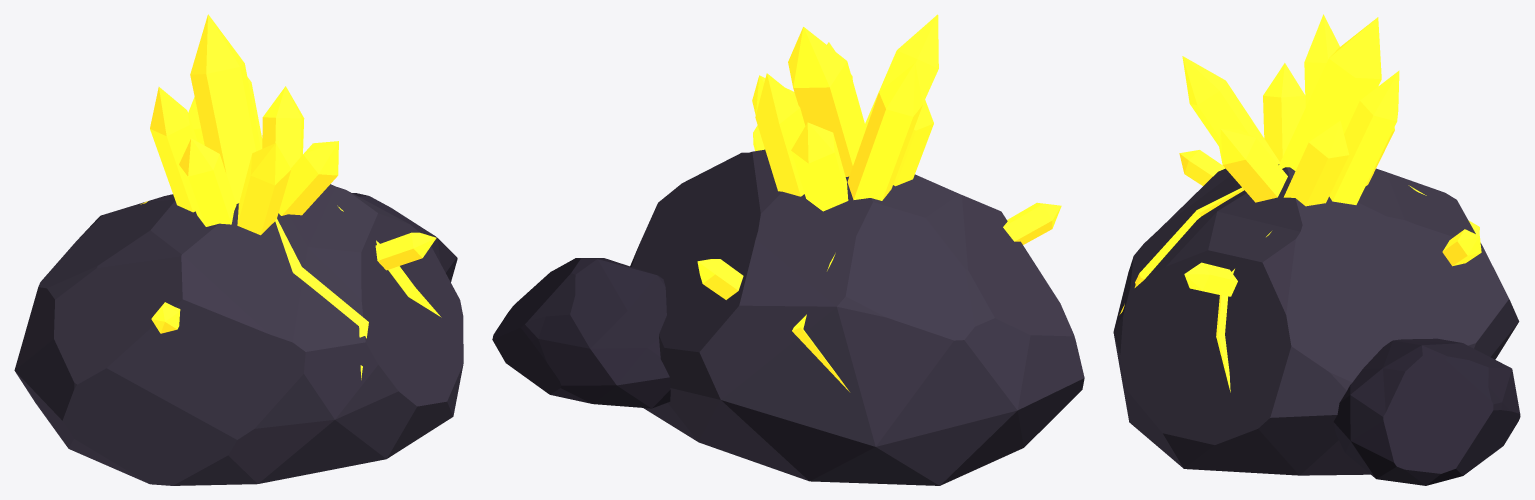
The model's file is crown_rock.glb.
The picture shows the model from 3 angles, left to right: view 1: azimuth 30°, elevation 25°; view 2: azimuth 150°, elevation 25°; view 3: azimuth 270°, elevation 25°; orthographic projection. The views are drawn at different scales.
Visible parts, largest first — view 1: crown_rock; view 2: crown_rock; view 3: crown_rock.
Part boxes in pixels (x1,y1,x2,y2): crown_rock: [14, 14, 463, 485]; crown_rock: [492, 14, 1084, 485]; crown_rock: [1113, 14, 1520, 485].
Bounding box in the file's own units: 2.26 × 1.73 × 1.69.
